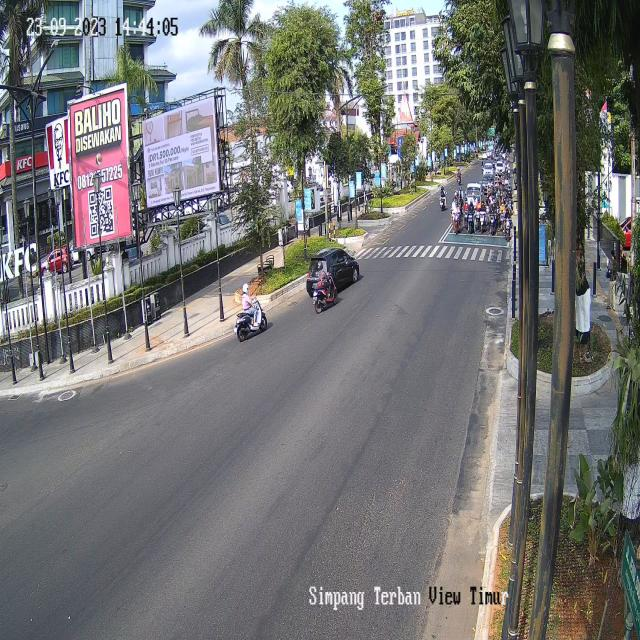car: (306, 245, 362, 304)
motorcycle: (234, 282, 268, 342), (312, 261, 340, 312), (467, 196, 475, 238), (438, 183, 448, 214), (503, 206, 511, 244), (456, 165, 462, 188)
